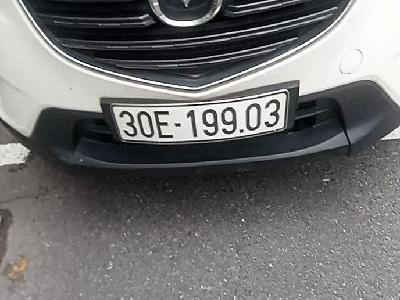number: (111, 93, 285, 141)
